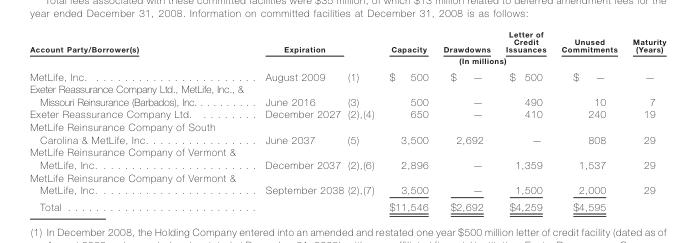table: (29, 29, 665, 211)
table column: (29, 29, 253, 211), (253, 29, 345, 211), (553, 29, 624, 211), (435, 29, 497, 211), (497, 29, 553, 211), (381, 29, 435, 211), (624, 29, 665, 211), (345, 29, 381, 211)
table column header: (29, 29, 665, 82)
table row: (29, 170, 665, 197), (29, 29, 665, 54), (29, 82, 665, 107), (29, 120, 665, 145), (29, 145, 665, 170), (29, 67, 665, 82), (29, 197, 665, 211), (29, 54, 665, 67), (29, 107, 665, 120)
table spanning cell: (29, 29, 253, 82), (253, 29, 381, 54), (381, 54, 624, 67), (253, 54, 345, 82), (624, 29, 665, 82), (345, 54, 381, 82)
